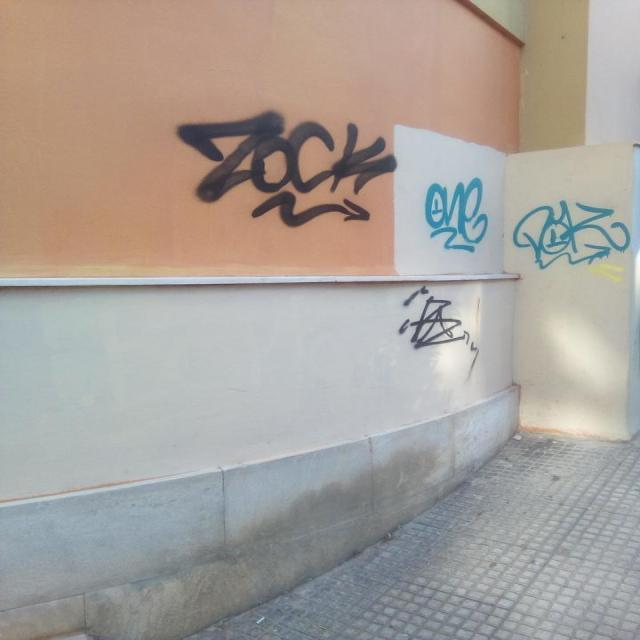nonspitting: (176, 110, 397, 227), (514, 198, 630, 274), (423, 174, 490, 256), (398, 284, 476, 353)
